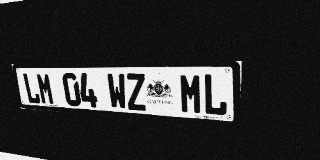0: (61, 73, 82, 107)
4: (77, 73, 98, 108)
L: (203, 74, 228, 116), (22, 73, 41, 104)
M: (179, 73, 203, 115), (36, 73, 55, 105)
W: (106, 73, 128, 110)
Z: (125, 73, 147, 111)
